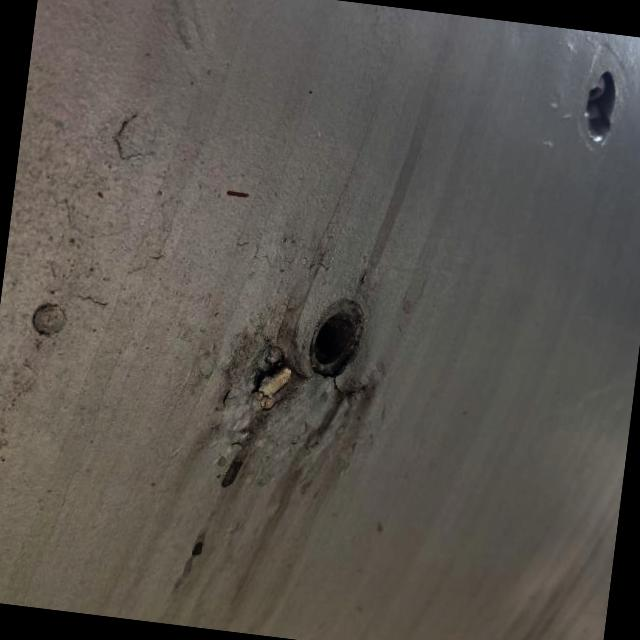crack: (230, 338, 316, 424)
